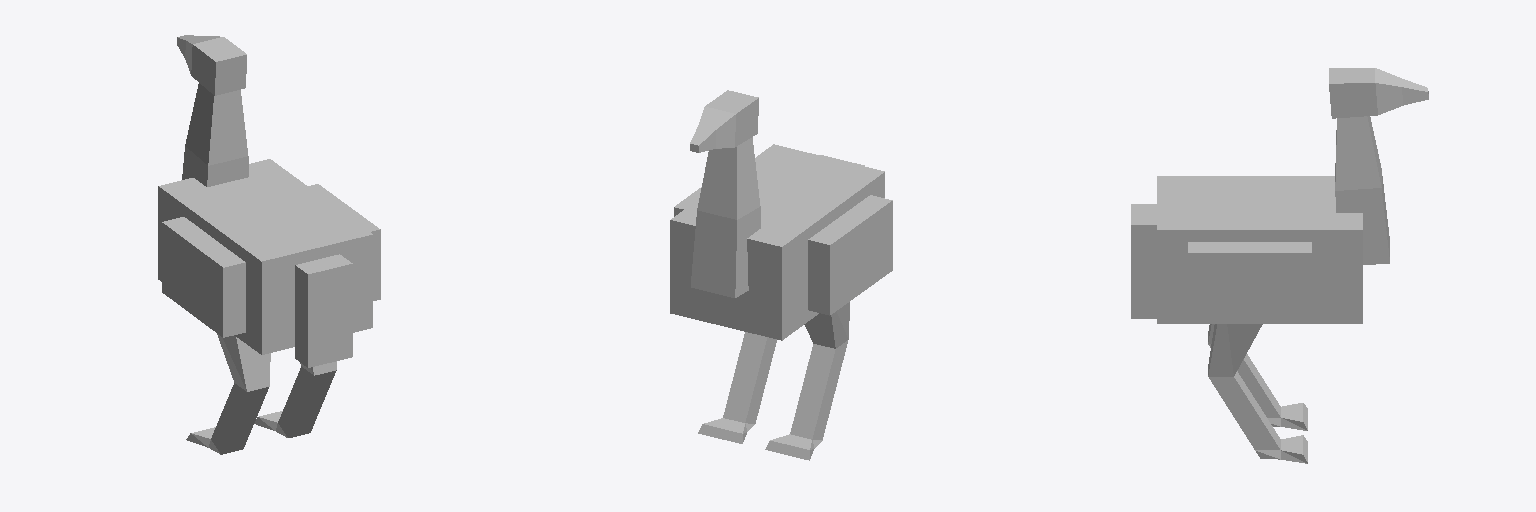
The model's file is Ostrich_000002.obj.
The picture shows the model from 3 angles: view 1: azimuth 30°, elevation 25°; view 2: azimuth 150°, elevation 25°; view 3: azimuth 270°, elevation 25°; orthographic projection.
Parts seen in each view (by area): view 1: Cube_Cube.001; view 2: Cube_Cube.001; view 3: Cube_Cube.001.
Boxes of the visible parts, x1=… form: Cube_Cube.001: x1=158, y1=35, x2=380, y2=454; Cube_Cube.001: x1=670, y1=90, x2=892, y2=460; Cube_Cube.001: x1=1131, y1=68, x2=1428, y2=463.
Bounding box in the file's own units: 0.7033 × 1.54 × 1.15.